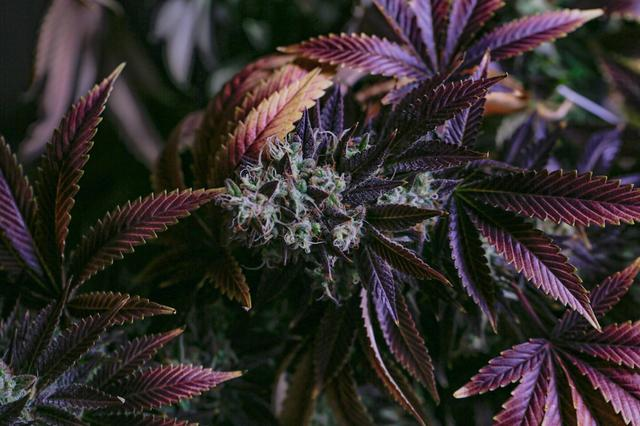Marijuana Plant: (197, 119, 429, 319)
